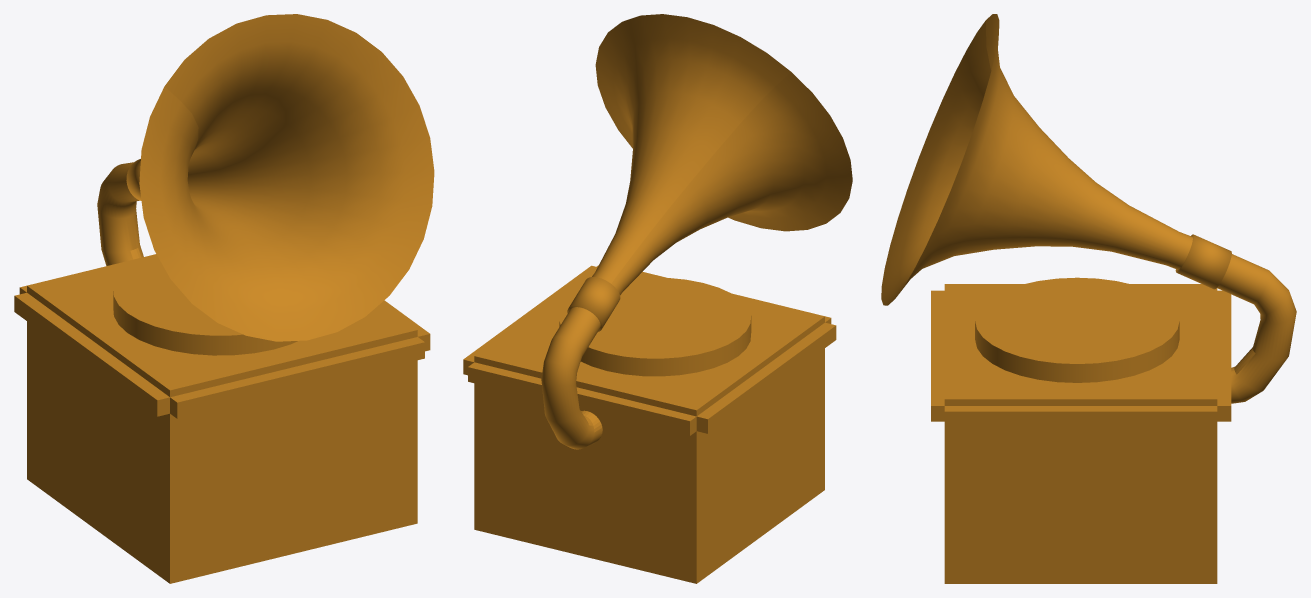
The model's file is grammystatue.obj.
The picture shows the model from 3 angles, left to right: view 1: azimuth 30°, elevation 25°; view 2: azimuth 150°, elevation 25°; view 3: azimuth 270°, elevation 25°; orthographic projection. The views are drawn at different scales.
Visible parts, largest first — view 1: Plane.003_Plane.006; view 2: Plane.003_Plane.006; view 3: Plane.003_Plane.006.
Boxes of the visible parts, x1,y1,x2,y2 form: Plane.003_Plane.006: (14, 14, 434, 583); Plane.003_Plane.006: (463, 14, 852, 583); Plane.003_Plane.006: (881, 14, 1296, 583).
Bounding box in the file's own units: 1.51 × 2.59 × 1.97.
